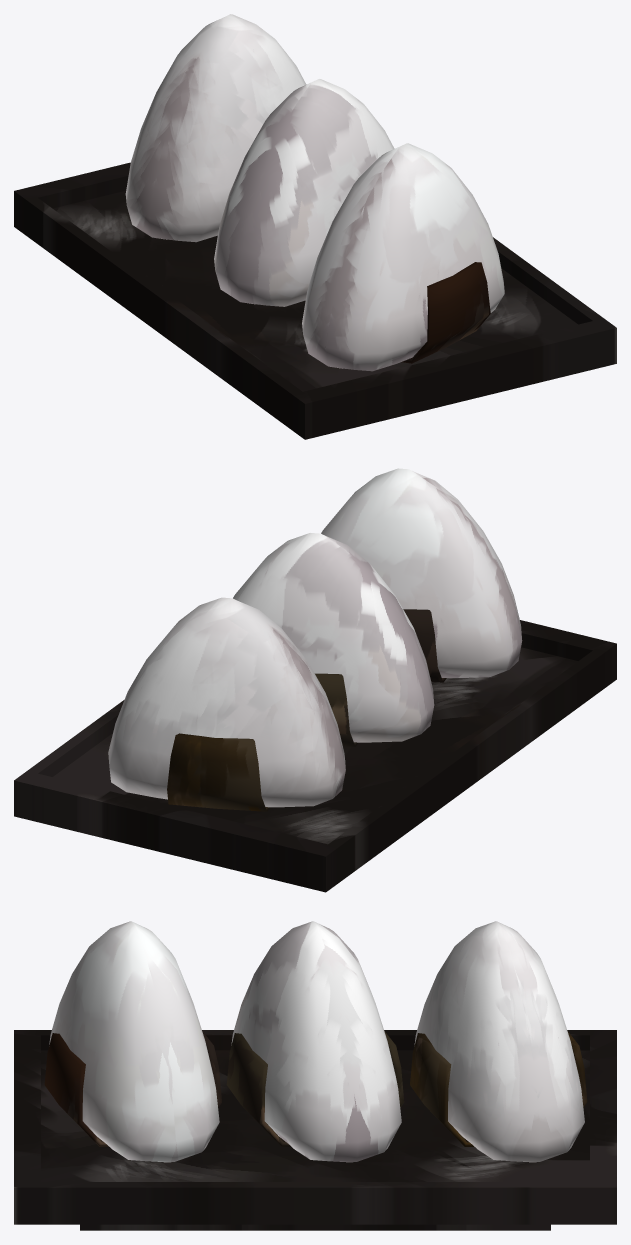
The model's file is onigiri.glb.
The picture shows the model from 3 angles, top to bottom: view 1: azimuth 30°, elevation 25°; view 2: azimuth 150°, elevation 25°; view 3: azimuth 270°, elevation 25°; orthographic projection. The views are drawn at different scales.
Visible parts, largest first — view 1: Object_3, Object_2, Object_5, Object_4; view 2: Object_3, Object_5, Object_4, Object_2; view 3: Object_3, Object_5, Object_4, Object_2.
Part boxes in pixels (left/top/right/bottom): Object_3: left=14, top=162, right=616, bottom=439; Object_2: left=302, top=143, right=504, bottom=371; Object_5: left=125, top=14, right=306, bottom=242; Object_4: left=214, top=79, right=394, bottom=306; Object_3: left=14, top=620, right=616, bottom=892; Object_5: left=108, top=597, right=345, bottom=811; Object_4: left=233, top=533, right=434, bottom=746; Object_2: left=321, top=468, right=522, bottom=682; Object_3: left=14, top=1030, right=616, bottom=1230; Object_5: left=410, top=921, right=587, bottom=1162; Object_4: left=226, top=921, right=404, bottom=1162; Object_2: left=44, top=921, right=221, bottom=1162.
Size of the model in its own units: 3.58 by 2.6 by 5.79.
Materials: 4 (4 with a texture image).
